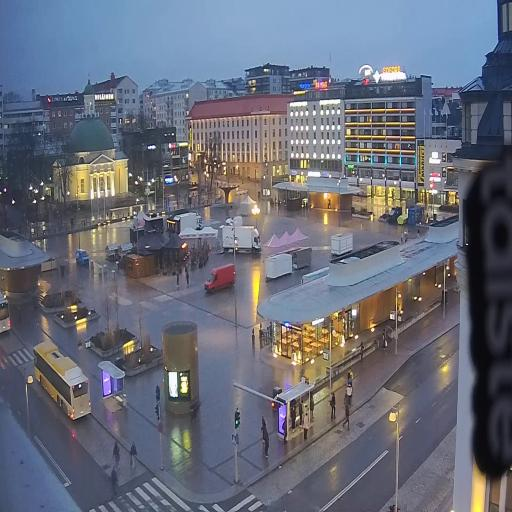bus: (28, 334, 96, 428), (199, 262, 239, 300), (0, 286, 13, 340)
delivery: (220, 220, 266, 258), (168, 208, 206, 239), (72, 244, 91, 272)
